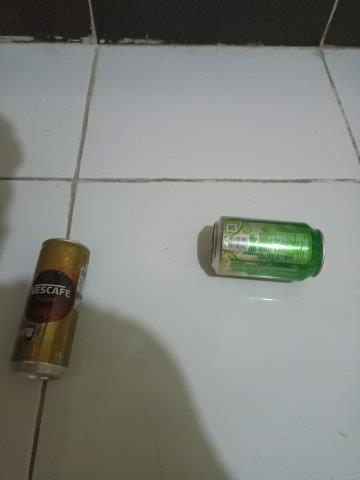kaleng: (10, 238, 91, 382), (210, 216, 325, 283)
